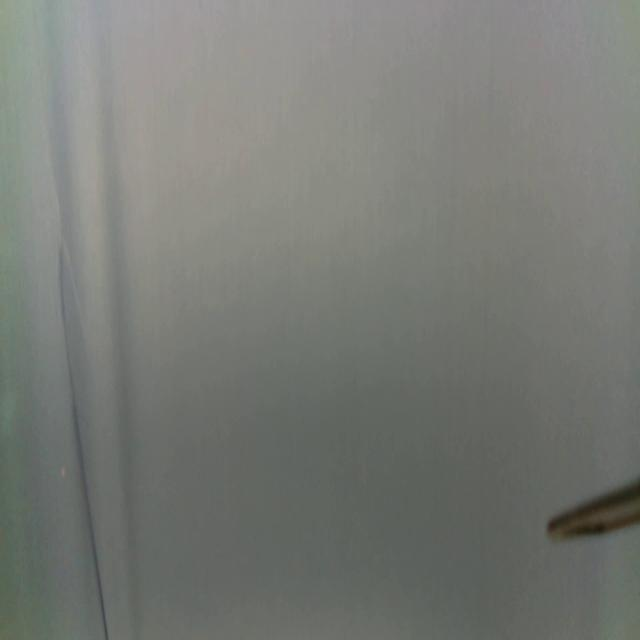crease: (59, 252, 110, 638)
